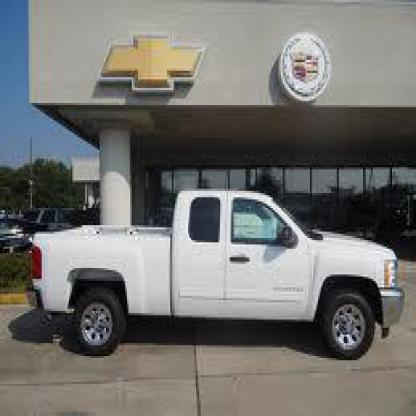Vehicle: (29, 191, 406, 360)
